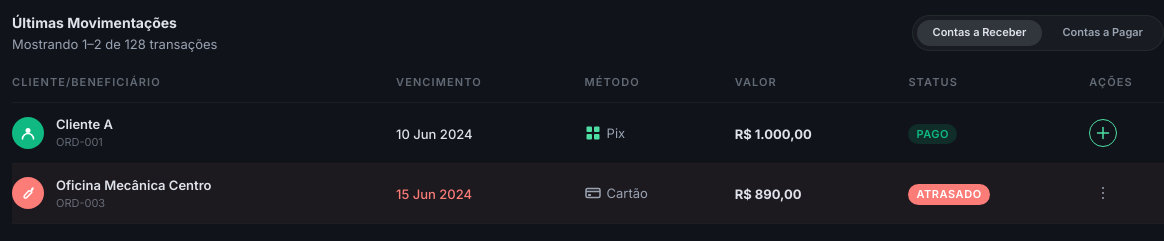
TransactionsTable — 5.1 Toggle › ao clicar "Contas a Pagar" exibe transações type=pagar
The image size is (1164, 241).
Click the button "Contas a Pagar" at (1103, 33), box [1046,20,1159,46]
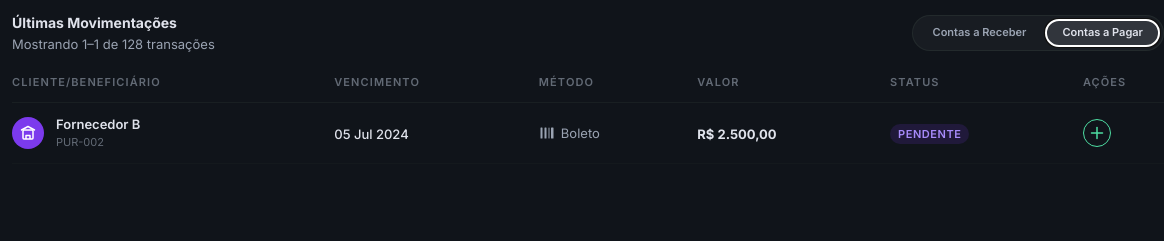
expect the text "Fornecedor B" is shown: met, box [56,115,140,134]
